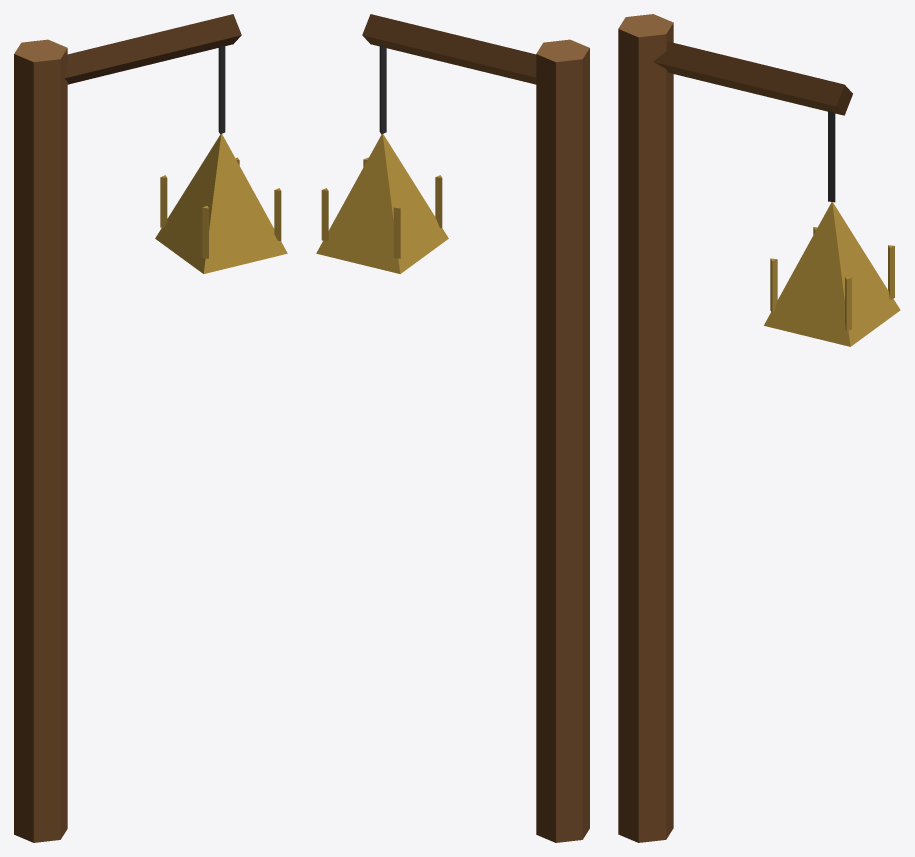
File: lanternpole.glb
The picture shows the model from 3 angles, left to right: view 1: azimuth 30°, elevation 25°; view 2: azimuth 150°, elevation 25°; view 3: azimuth 330°, elevation 25°; orthographic projection. The views are drawn at different scales.
Visible parts, largest first — view 1: base, lantern_m; view 2: base, lantern_m; view 3: base, lantern_m.
Boxes of the visible parts, bbox=[...] form: base: bbox=[14, 14, 241, 842]; lantern_m: bbox=[155, 46, 287, 273]; base: bbox=[362, 14, 589, 842]; lantern_m: bbox=[316, 45, 448, 273]; base: bbox=[618, 14, 852, 842]; lantern_m: bbox=[764, 110, 900, 346].
Bounding box in the file's own units: 0.2043 × 0.62 × 0.07.
